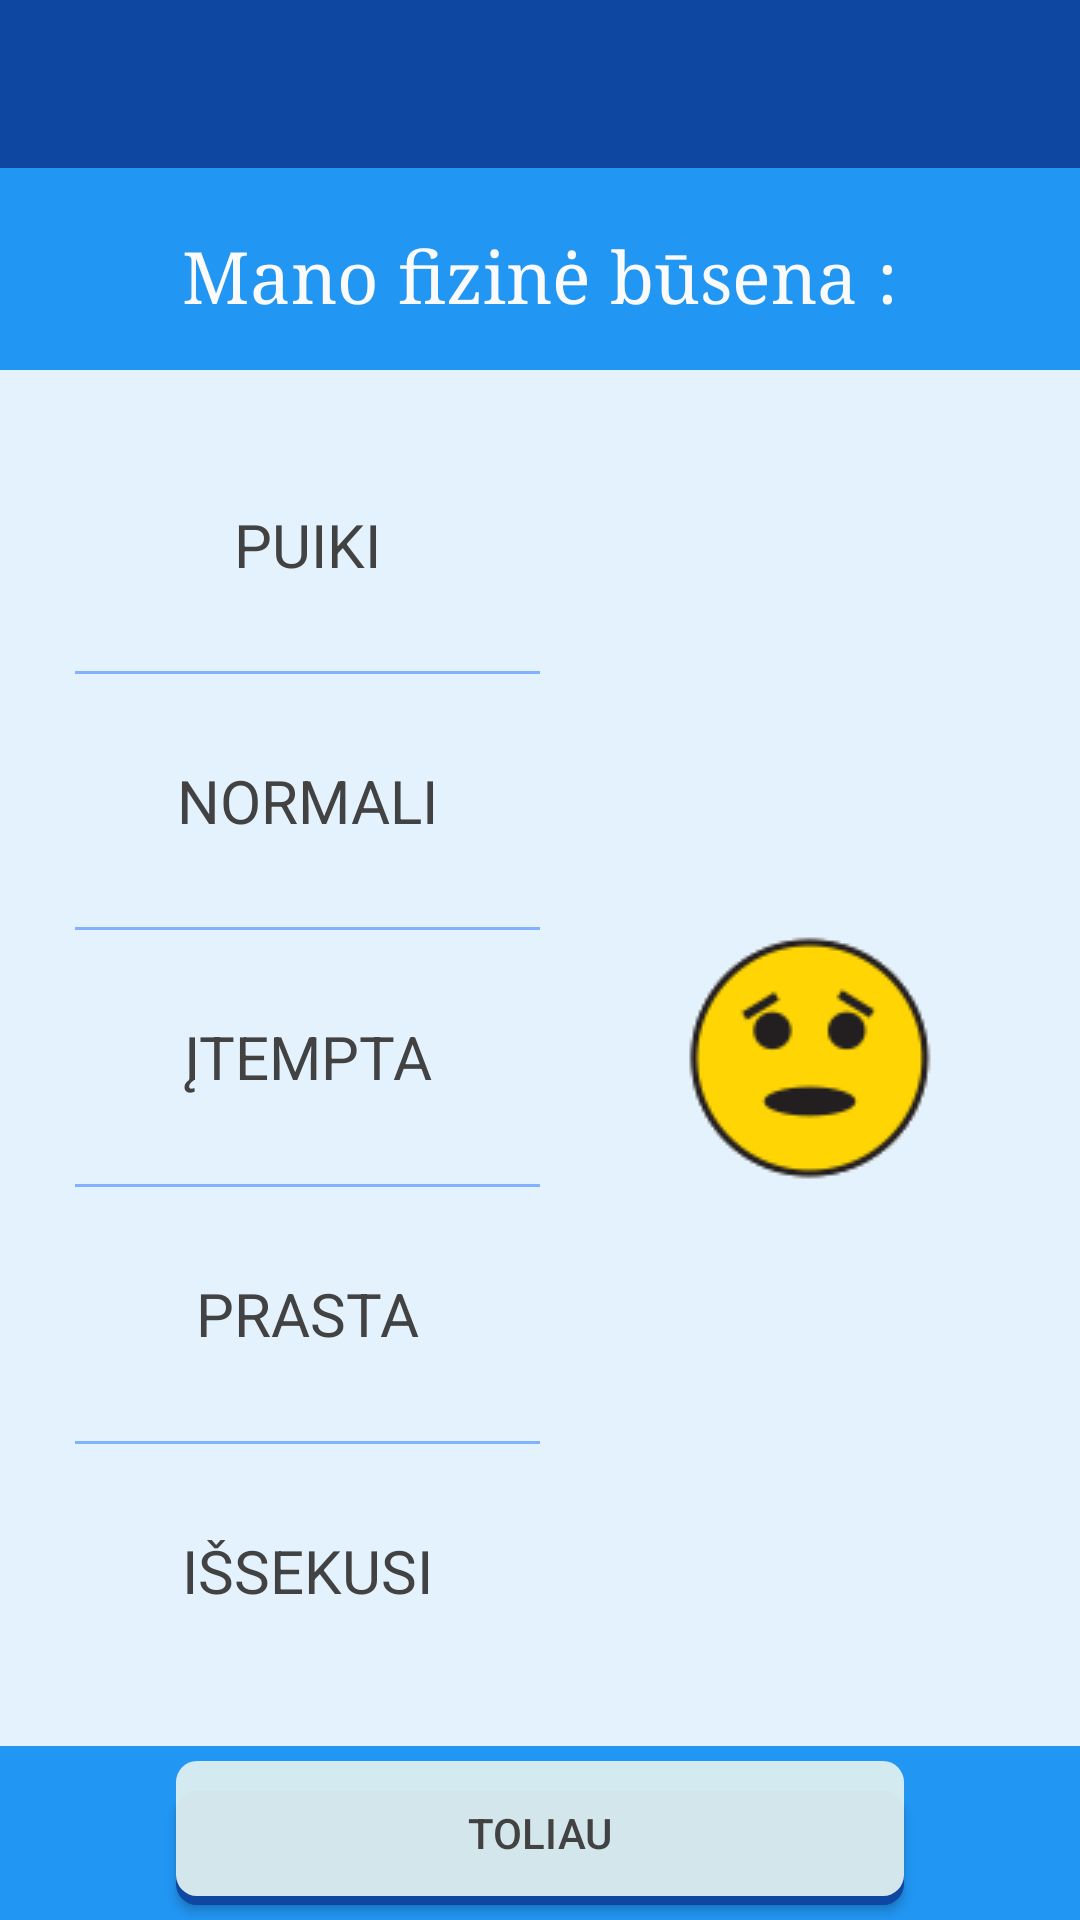

Icons on this 1080x1920 Android screen, each with the point to tap as [x,y]:
A picture that describes your physical state: [810,1058]
